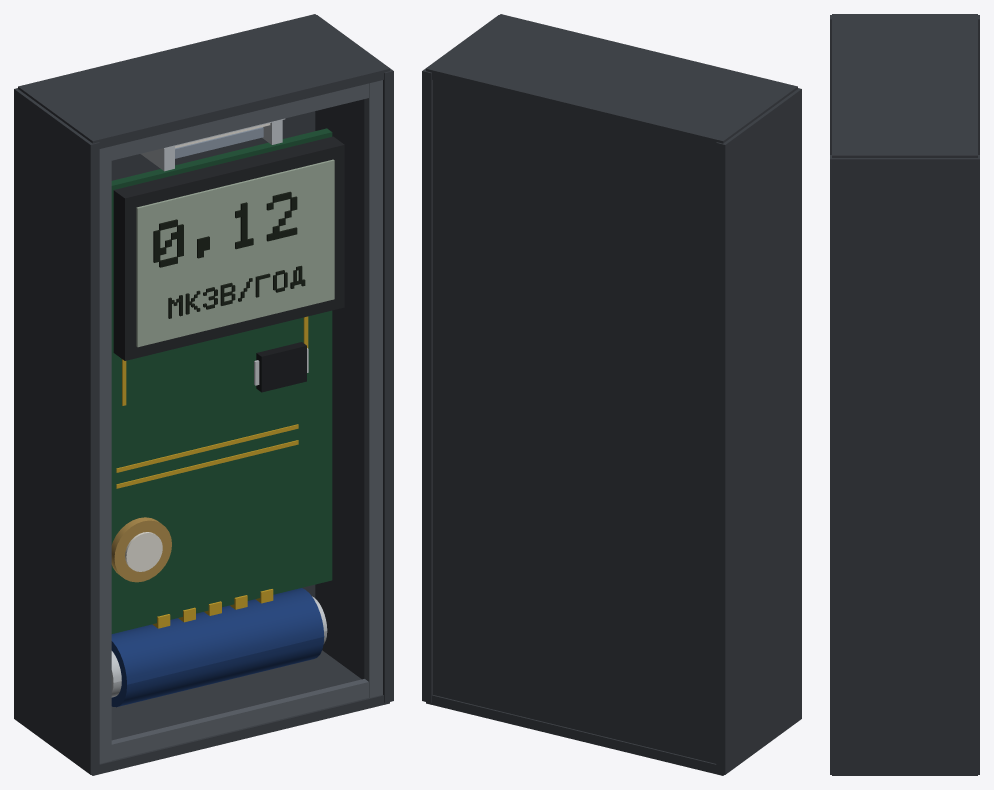
File: radiation-dosimeter.glb
The picture shows the model from 3 angles, left to right: view 1: azimuth 30°, elevation 25°; view 2: azimuth 150°, elevation 25°; view 3: azimuth 270°, elevation 25°; orthographic projection. The views are drawn at different scales.
Parts seen in each view (by area): view 1: Housing, ControlBoard, Display, Battery, Buzzer, Preamplifier, DetectorWindow, SemiconductorDetector; view 2: Housing; view 3: Housing.
Part boxes in pixels (x1,y1,x2,y2): Housing: [14, 14, 393, 775]; ControlBoard: [111, 128, 332, 633]; Display: [113, 136, 344, 360]; Battery: [111, 588, 327, 707]; Buzzer: [111, 517, 171, 582]; Preamplifier: [254, 342, 308, 392]; DetectorWindow: [140, 118, 285, 171]; SemiconductorDetector: [175, 127, 263, 158]; Housing: [422, 14, 801, 775]; Housing: [830, 14, 979, 775].
Size of the model in its own units: 4 by 8 by 1.75.
